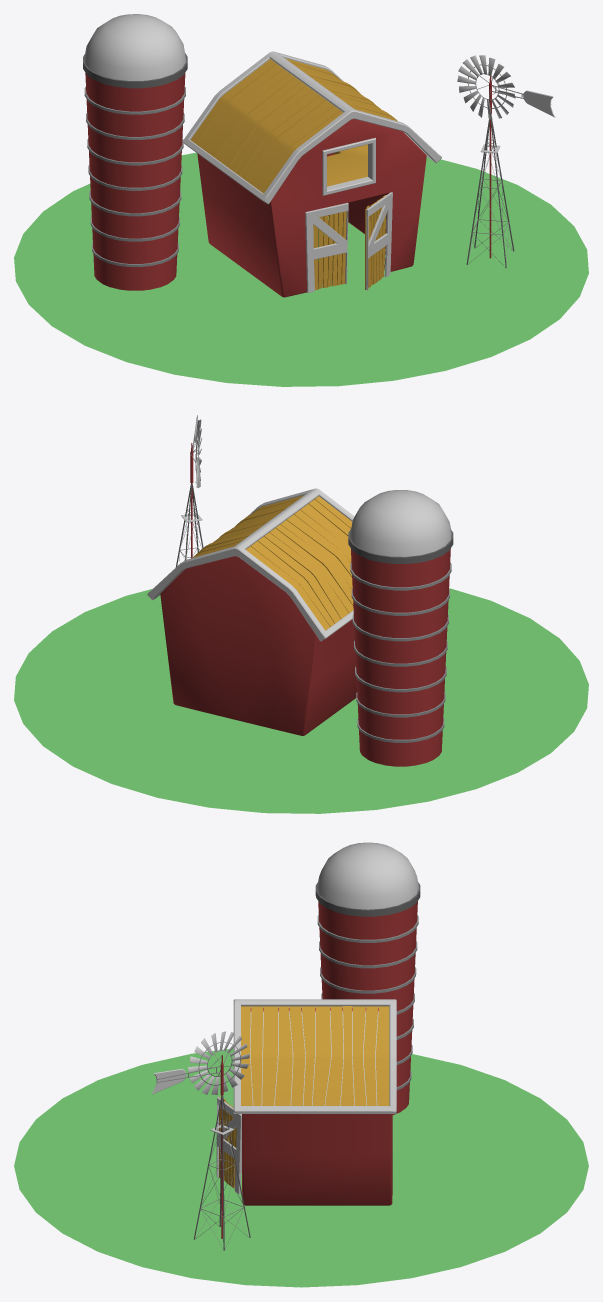
The picture shows the model from 3 angles, top to bottom: view 1: azimuth 30°, elevation 25°; view 2: azimuth 150°, elevation 25°; view 3: azimuth 270°, elevation 25°; orthographic projection.
Parts seen in each view (by area): view 1: Disc, Ambar, Tower, Vetryak; view 2: Disc, Ambar, Tower, Vetryak; view 3: Disc, Ambar, Tower, Vetryak.
Boxes of the visible parts, bbox=[...] form: Disc: bbox=[14, 152, 588, 386]; Ambar: bbox=[183, 51, 441, 297]; Tower: bbox=[83, 14, 187, 290]; Vetryak: bbox=[457, 55, 555, 267]; Disc: bbox=[14, 588, 588, 813]; Ambar: bbox=[147, 488, 357, 735]; Tower: bbox=[348, 490, 453, 766]; Vetryak: bbox=[175, 415, 203, 567]; Disc: bbox=[14, 1048, 588, 1287]; Ambar: bbox=[216, 999, 396, 1205]; Tower: bbox=[315, 842, 420, 1114]; Vetryak: bbox=[152, 1031, 250, 1250].
Size of the model in its own units: 1359 by 661 by 1359.
